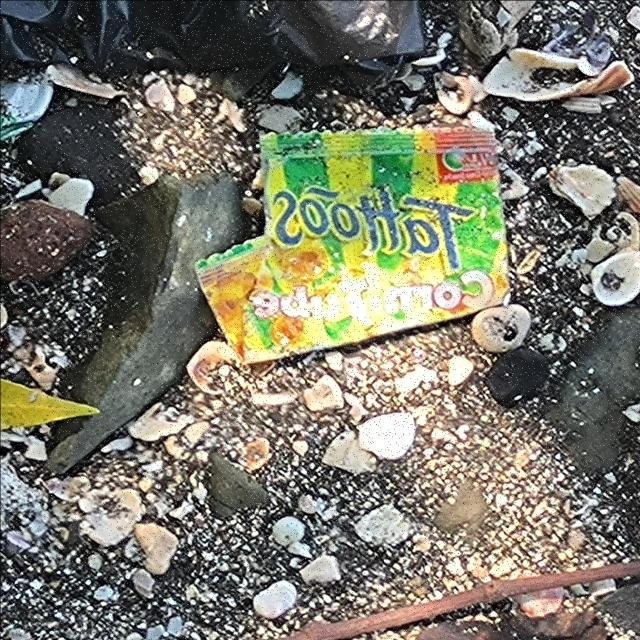plastic_waste: (194, 126, 513, 367)
